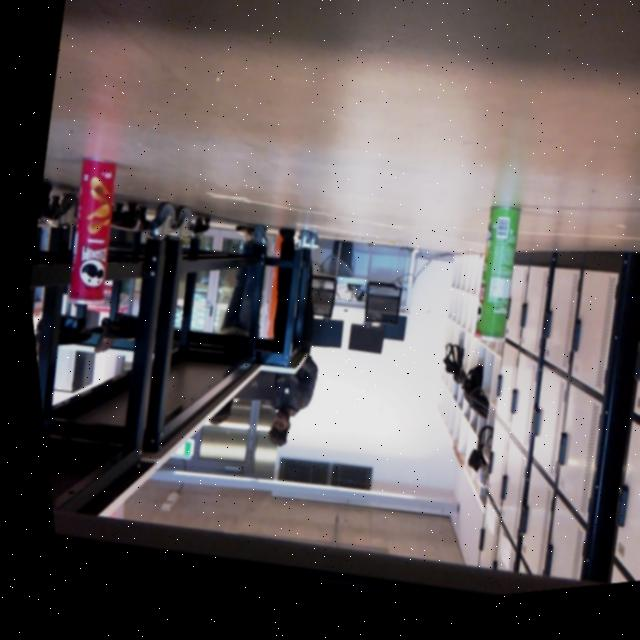greenpringles: (434, 195, 543, 376)
redpringles: (40, 148, 137, 322)
